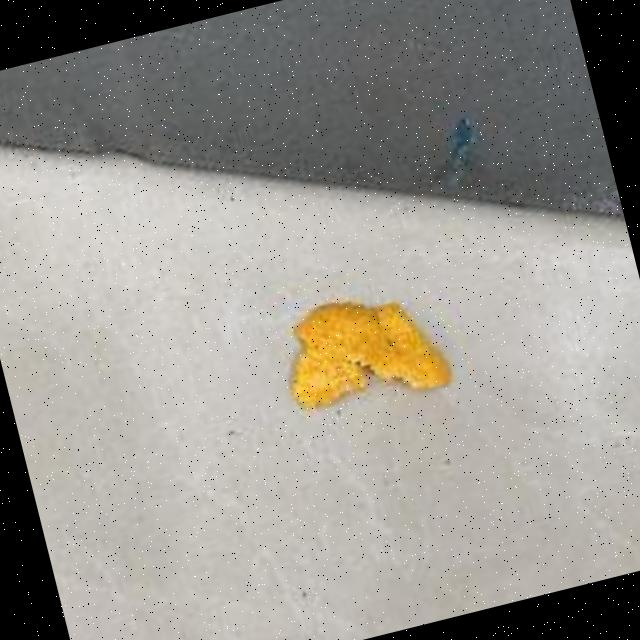orange-peel: (270, 275, 454, 424)
